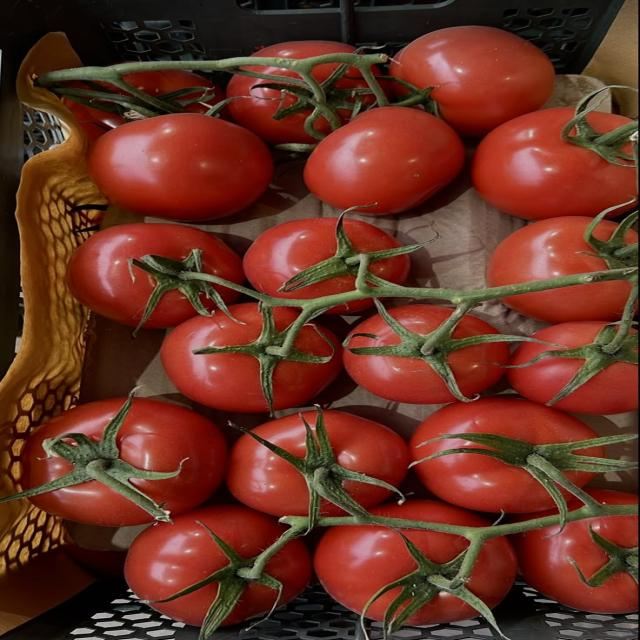tomato: (88, 114, 273, 221), (160, 303, 341, 412), (125, 504, 286, 625), (472, 108, 637, 220), (390, 25, 554, 137), (67, 223, 245, 326), (304, 106, 464, 215), (116, 398, 226, 513), (511, 516, 638, 614), (410, 396, 598, 461), (343, 313, 455, 404), (243, 218, 358, 298), (314, 525, 416, 612), (487, 217, 608, 286), (507, 321, 607, 403), (227, 66, 317, 144), (323, 410, 408, 487), (123, 69, 225, 113), (123, 70, 225, 113), (61, 97, 126, 142)
